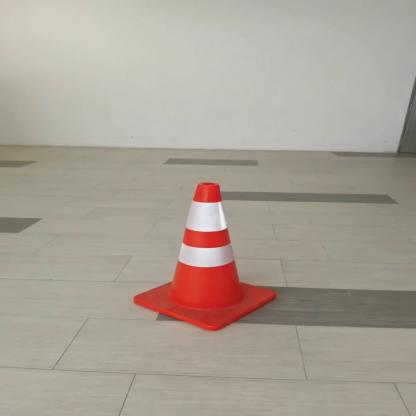cone: (132, 180, 280, 334)
